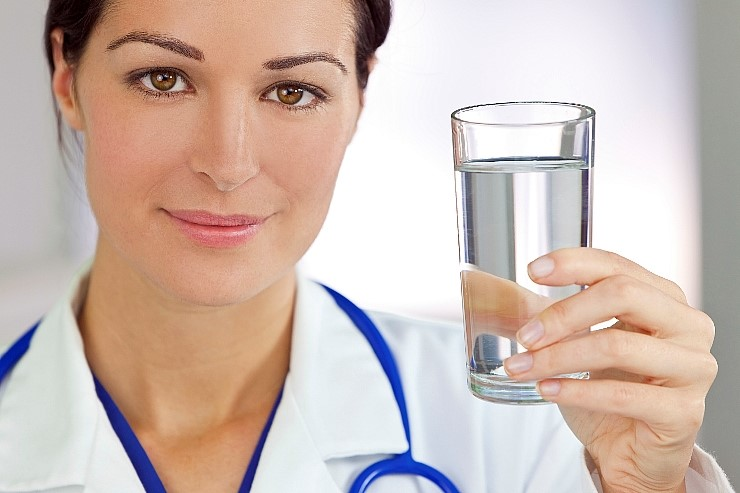glass of water: (450, 101, 599, 406)
